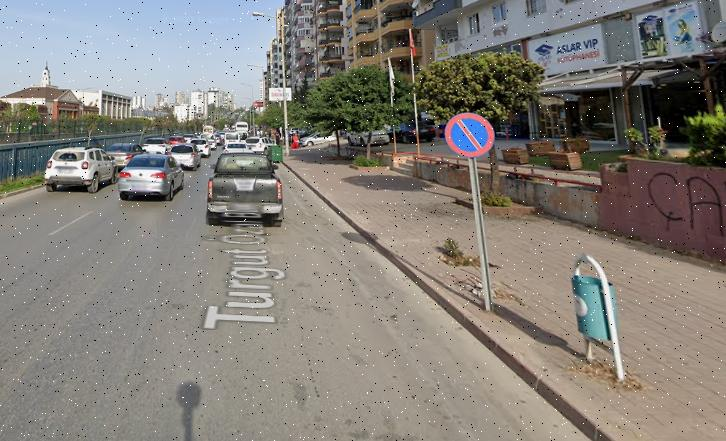nopark: (444, 114, 495, 158)
